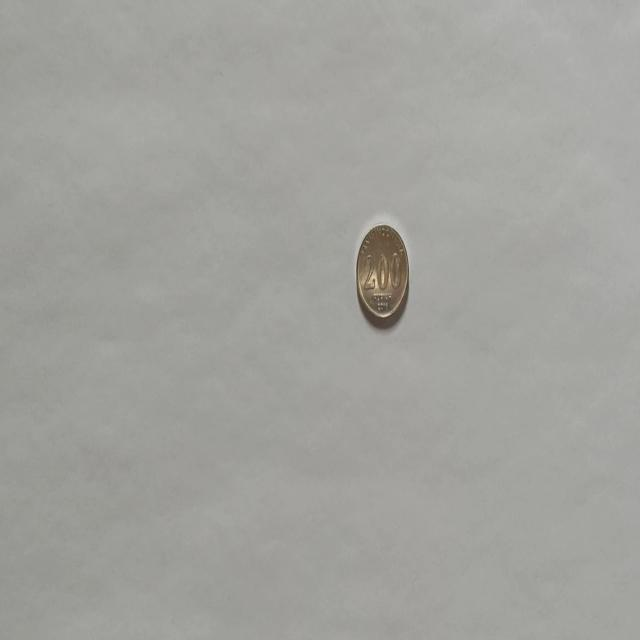dua ratus rupiah: (355, 222, 409, 324)
